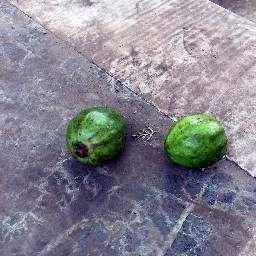guava: (163, 110, 226, 170), (64, 105, 124, 167)
